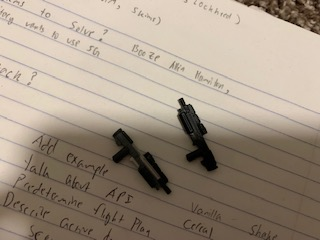rifle: (108, 126, 175, 200), (176, 96, 220, 178)
